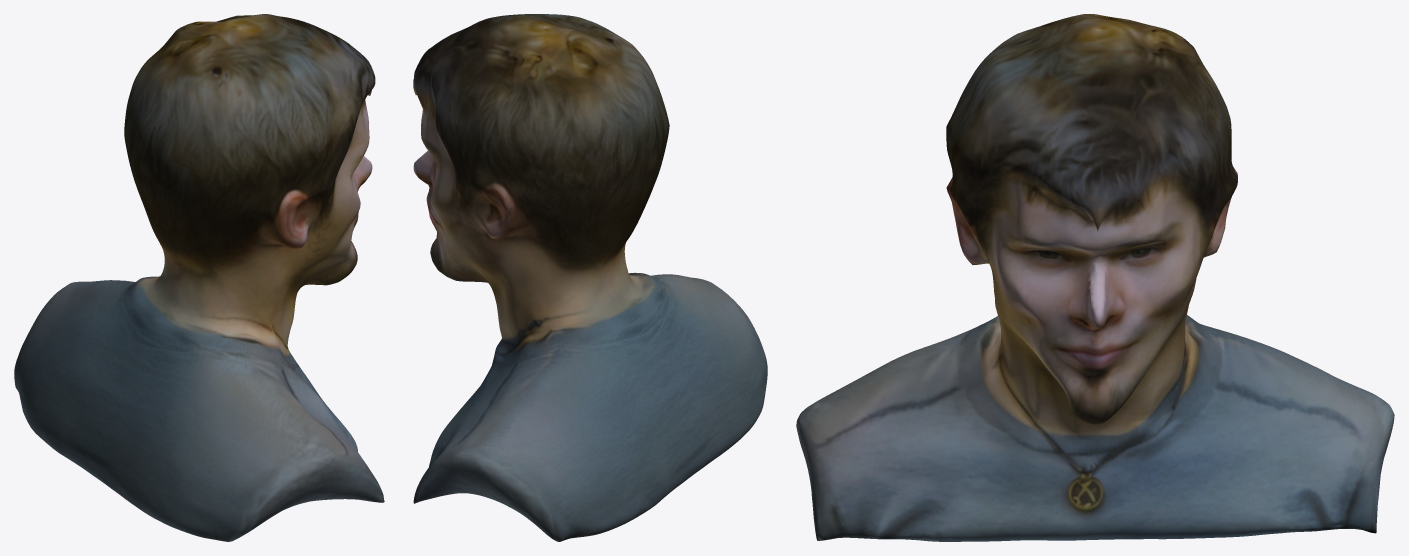
The model's file is Batya_0506114829.fbx.
3 views of the same model, side by side, from view 1: azimuth 30°, elevation 25°; view 2: azimuth 150°, elevation 25°; view 3: azimuth 270°, elevation 25° (orthographic). The views are drawn at different scales.
Parts seen in each view (by area): view 1: Mesh_0; view 2: Mesh_0; view 3: Mesh_0.
Part boxes in pixels (x1,y1,x2,y2): Mesh_0: (14,14,384,541); Mesh_0: (413,14,767,541); Mesh_0: (796,14,1394,541).
Bounding box in the file's own units: 80.32 × 116 × 120.
Materials: 1 (1 with a texture image).
